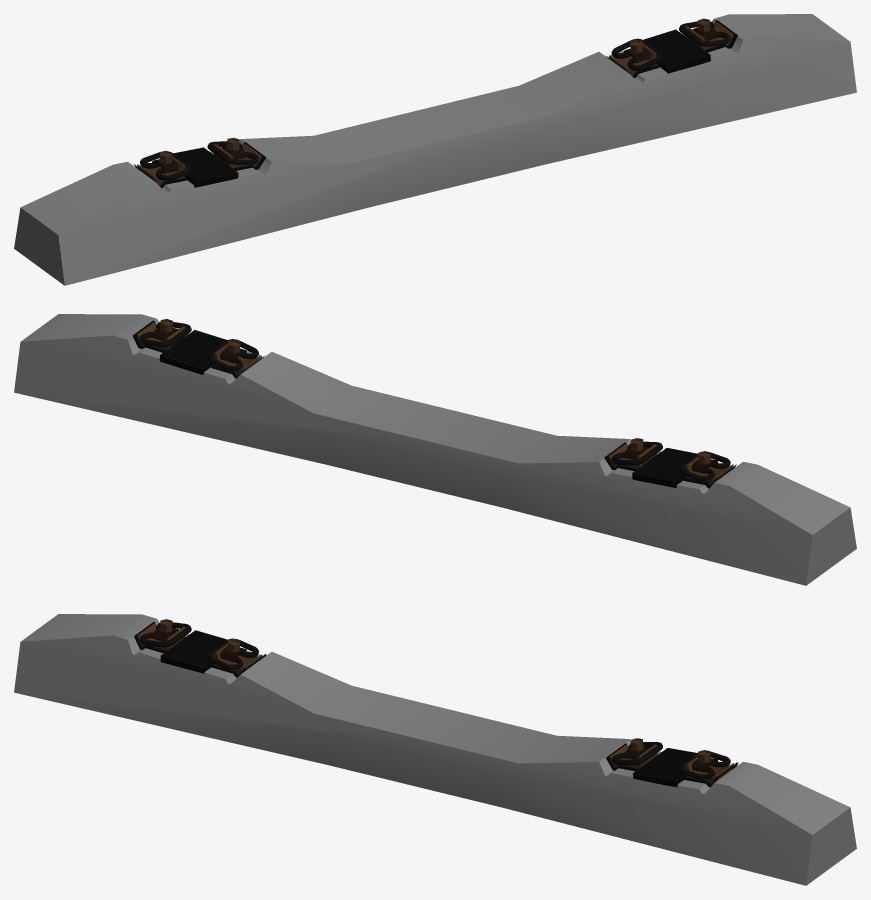
3 views of the same model, one above another, from view 1: azimuth 30°, elevation 25°; view 2: azimuth 150°, elevation 25°; view 3: azimuth 330°, elevation 25° (orthographic).
Visible parts, largest first — view 1: VRayProxy_JBRSH_1701; view 2: VRayProxy_JBRSH_1701; view 3: VRayProxy_JBRSH_1701.
Part boxes in pixels (x1,y1,x2,y2): VRayProxy_JBRSH_1701: [14, 14, 856, 285]; VRayProxy_JBRSH_1701: [14, 314, 856, 585]; VRayProxy_JBRSH_1701: [14, 614, 856, 885].
Bounding box in the file's own units: 107 × 10.8 × 11.88.
